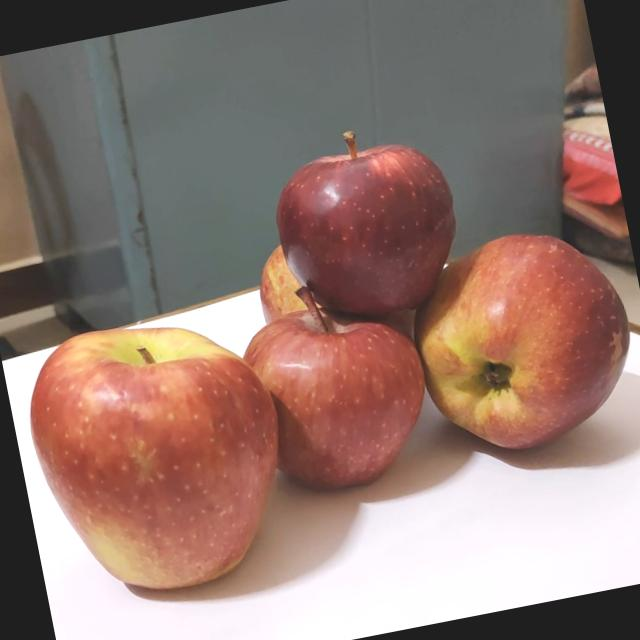apple: (6, 298, 303, 620), (394, 212, 640, 470), (223, 264, 440, 512), (253, 112, 471, 337), (246, 234, 332, 341)
